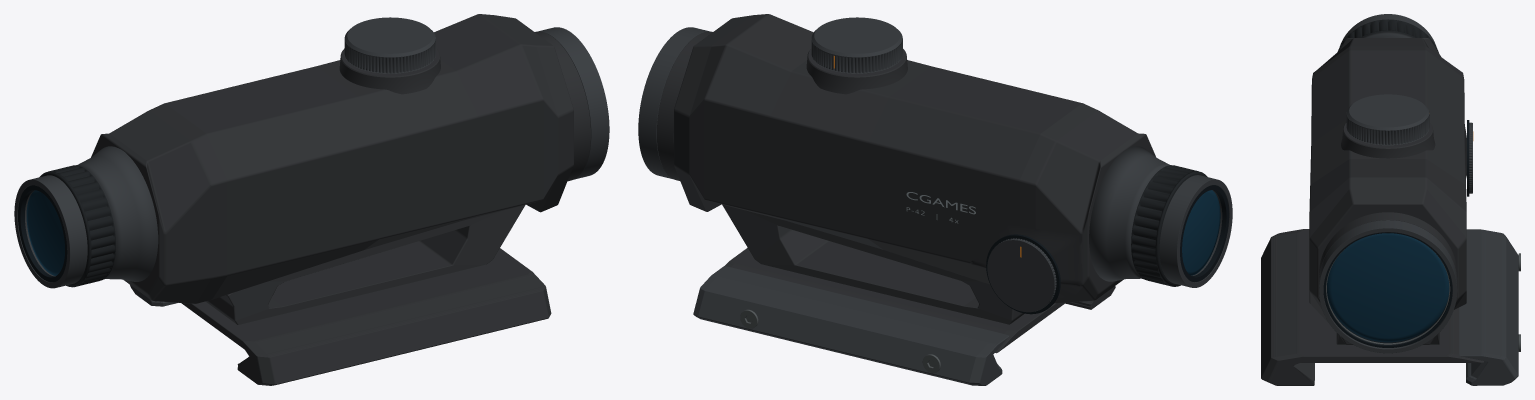
Rendered from P42_X50_Rail.fbx.
3 views of the same model, side by side, from view 1: azimuth 30°, elevation 25°; view 2: azimuth 150°, elevation 25°; view 3: azimuth 270°, elevation 25° (orthographic). The views are drawn at different scales.
Parts seen in each view (by area): view 1: 01 PRIMARY | faceted prism housing, 21 LOWER SHELL | thin bridge and fixed edge, 20 UPPER FOOT | open angular saddle, 07 REAR | short taper neck, 10 REAR | end rim, 14 TOP | cap stepped core, 09 REAR | integrated axial rubber grip, 02 FRONT | short protective lip, 12 REAR | visual glass, 03 FRONT | narrow second shoulder, 13 TOP | compact housing boss, 15 TOP | actual fine axial flutes (+2 smaller); view 2: 01 PRIMARY | faceted prism housing, 22 SIDE STRIP | independent continuous bar, 20 UPPER FOOT | open angular saddle, 07 REAR | short taper neck, 21 LOWER SHELL | thin bridge and fixed edge, 18 SIDE | circular cap, 10 REAR | end rim, 14 TOP | cap stepped core, 09 REAR | integrated axial rubber grip, 02 FRONT | short protective lip, 16 SIDE | shallow integral control root, 12 REAR | visual glass (+6 smaller); view 3: 01 PRIMARY | faceted prism housing, 21 LOWER SHELL | thin bridge and fixed edge, 06 FRONT | recessed curved visual coating, 22 SIDE STRIP | independent continuous bar, 02 FRONT | short protective lip, 14 TOP | cap stepped core, 13 TOP | compact housing boss, 04 FRONT | dark cylindrical well, 15 TOP | actual fine axial flutes, 03 FRONT | narrow second shoulder, 09 REAR | integrated axial rubber grip, 10 REAR | end rim (+4 smaller).
Part boxes in pixels (<box>): 01 PRIMARY | faceted prism housing: <box>91,14,573,303</box>; 21 LOWER SHELL | thin bridge and fixed edge: <box>181,248,551,385</box>; 20 UPPER FOOT | open angular saddle: <box>205,205,525,324</box>; 07 REAR | short taper neck: <box>76,146,158,281</box>; 10 REAR | end rim: <box>14,175,87,288</box>; 14 TOP | cap stepped core: <box>345,17,435,73</box>; 09 REAR | integrated axial rubber grip: <box>48,165,115,287</box>; 02 FRONT | short protective lip: <box>538,27,609,179</box>; 12 REAR | visual glass: <box>26,190,64,275</box>; 03 FRONT | narrow second shoulder: <box>535,31,590,181</box>; 13 TOP | compact housing boss: <box>339,48,440,94</box>; 15 TOP | actual fine axial flutes: <box>344,37,435,73</box>; 01 PRIMARY | faceted prism housing: <box>674,14,1155,303</box>; 22 SIDE STRIP | independent continuous bar: <box>693,266,1009,385</box>; 20 UPPER FOOT | open angular saddle: <box>722,204,1024,324</box>; 07 REAR | short taper neck: <box>1089,146,1171,281</box>; 21 LOWER SHELL | thin bridge and fixed edge: <box>725,247,1115,353</box>; 18 SIDE | circular cap: <box>987,239,1054,312</box>; 10 REAR | end rim: <box>1159,175,1232,287</box>; 14 TOP | cap stepped core: <box>811,17,902,73</box>; 09 REAR | integrated axial rubber grip: <box>1131,165,1197,286</box>; 02 FRONT | short protective lip: <box>638,27,709,179</box>; 16 SIDE | shallow integral control root: <box>970,223,1084,299</box>; 12 REAR | visual glass: <box>1182,190,1220,275</box>; 01 PRIMARY | faceted prism housing: <box>1309,38,1466,344</box>; 21 LOWER SHELL | thin bridge and fixed edge: <box>1261,229,1483,385</box>; 06 FRONT | recessed curved visual coating: <box>1327,233,1449,342</box>; 22 SIDE STRIP | independent continuous bar: <box>1459,229,1518,385</box>; 02 FRONT | short protective lip: <box>1319,220,1457,353</box>; 14 TOP | cap stepped core: <box>1347,94,1429,145</box>; 13 TOP | compact housing boss: <box>1341,122,1435,158</box>; 04 FRONT | dark cylindrical well: <box>1323,232,1452,347</box>; 15 TOP | actual fine axial flutes: <box>1346,112,1429,144</box>; 03 FRONT | narrow second shoulder: <box>1319,212,1457,280</box>; 09 REAR | integrated axial rubber grip: <box>1338,19,1437,50</box>; 10 REAR | end rim: <box>1339,14,1436,46</box>.
Bounding box in the file's own units: 16.02 × 7.46 × 7.52.
